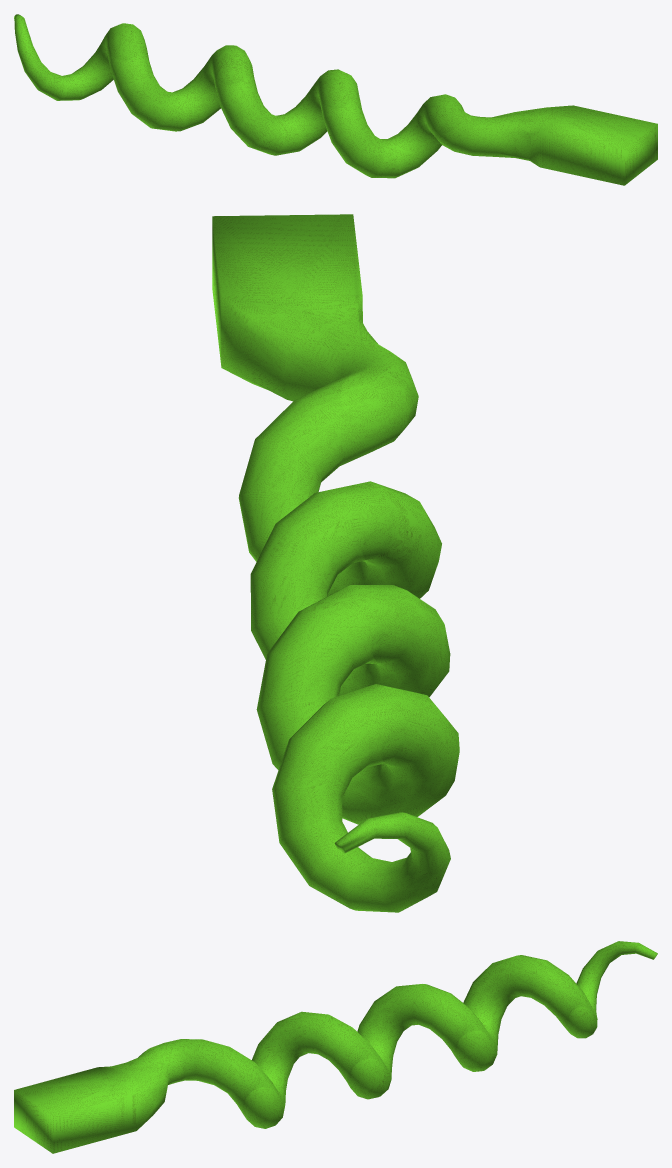
The model's file is original-5.obj.
3 views of the same model, one above another, from view 1: azimuth 30°, elevation 25°; view 2: azimuth 150°, elevation 25°; view 3: azimuth 270°, elevation 25° (orthographic). The views are drawn at different scales.
Parts seen in each view (by area): view 1: CORKSCREW1/CORKSCREW/mesh5/mesh5-geometry#mesh5-geometry; view 2: CORKSCREW1/CORKSCREW/mesh5/mesh5-geometry#mesh5-geometry; view 3: CORKSCREW1/CORKSCREW/mesh5/mesh5-geometry#mesh5-geometry.
Part boxes in pixels (x1=…): CORKSCREW1/CORKSCREW/mesh5/mesh5-geometry#mesh5-geometry: x1=14, y1=14, x2=657, y2=185; CORKSCREW1/CORKSCREW/mesh5/mesh5-geometry#mesh5-geometry: x1=212, y1=214, x2=459, y2=912; CORKSCREW1/CORKSCREW/mesh5/mesh5-geometry#mesh5-geometry: x1=14, y1=941, x2=657, y2=1153.
Bounding box in the file's own units: 0.3127 × 0.0718 × 0.443.
